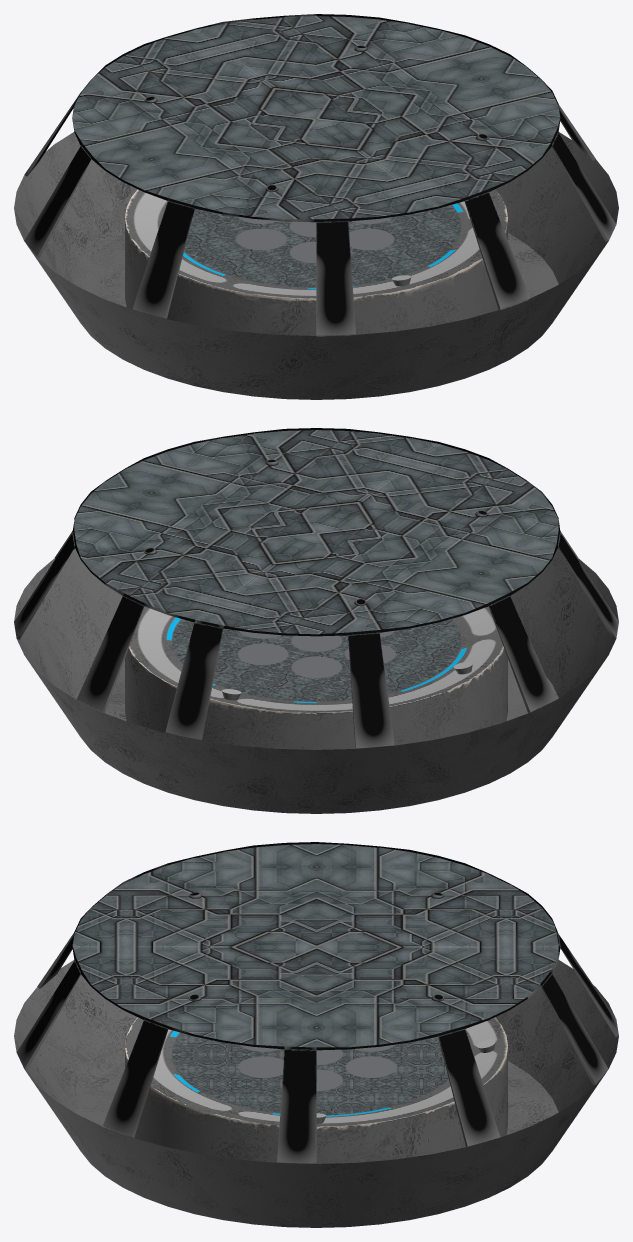
File: BossStage.fbx
3 renders of one model, top to bottom at view 1: azimuth 30°, elevation 25°; view 2: azimuth 150°, elevation 25°; view 3: azimuth 270°, elevation 25°, orthographic.
Parts seen in each view (by area): view 1: Spot, Ground; view 2: Spot, Ground, Lights_group2_pCylinder2; view 3: Spot, Ground, Lights_group2_pCylinder2.
Part boxes in pixels (x1,y1,x2,y2): Spot: (24, 14, 616, 335); Ground: (14, 132, 618, 399); Spot: (14, 428, 618, 748); Ground: (14, 548, 618, 813); Lights_group2_pCylinder2: (144, 459, 488, 700); Spot: (16, 842, 618, 1163); Ground: (14, 960, 618, 1227); Lights_group2_pCylinder2: (188, 892, 495, 1123).
Bounding box in the file's own units: 259 × 85.28 × 259.
Materials: 2 (2 with a texture image).
